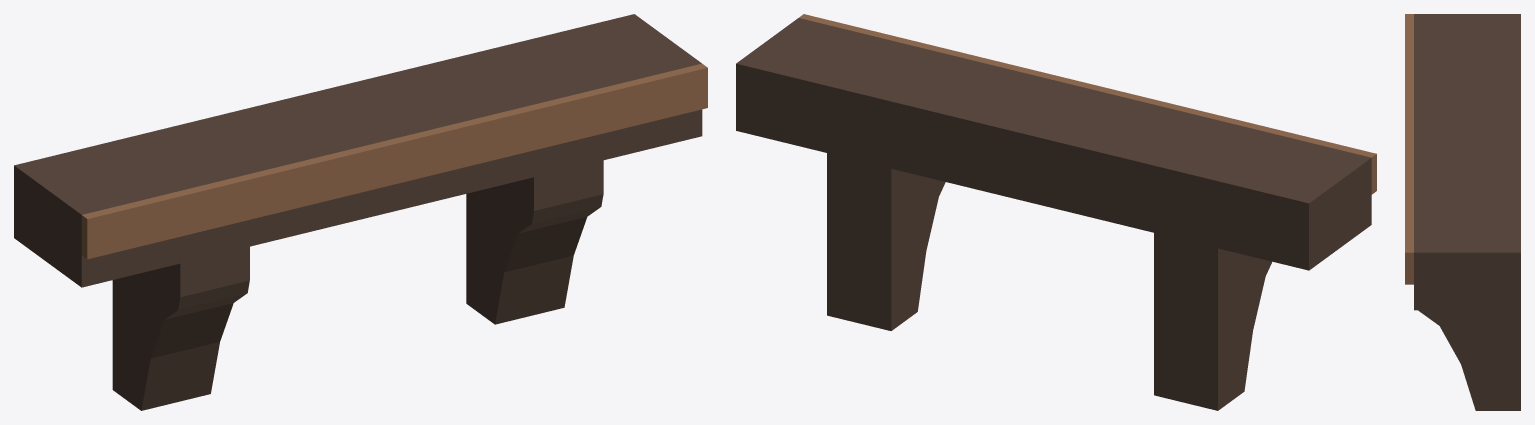
The model's file is corbelled_bressummer.glb.
3 renders of one model, left to right at view 1: azimuth 30°, elevation 25°; view 2: azimuth 150°, elevation 25°; view 3: azimuth 270°, elevation 25°, orthographic. The views are drawn at different scales.
Visible parts, largest first — view 1: Corbelled bressummer; view 2: Corbelled bressummer; view 3: Corbelled bressummer.
Boxes of the visible parts, x1,y1,x2,y2 form: Corbelled bressummer: (14, 14, 707, 410); Corbelled bressummer: (736, 14, 1376, 410); Corbelled bressummer: (1405, 14, 1520, 410).
Size of the model in its own units: 1 by 0.383 by 0.205.
